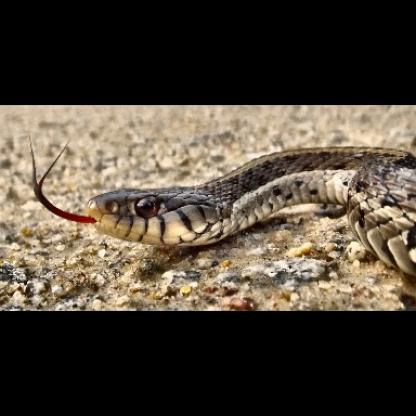Snake: (78, 140, 416, 286)
